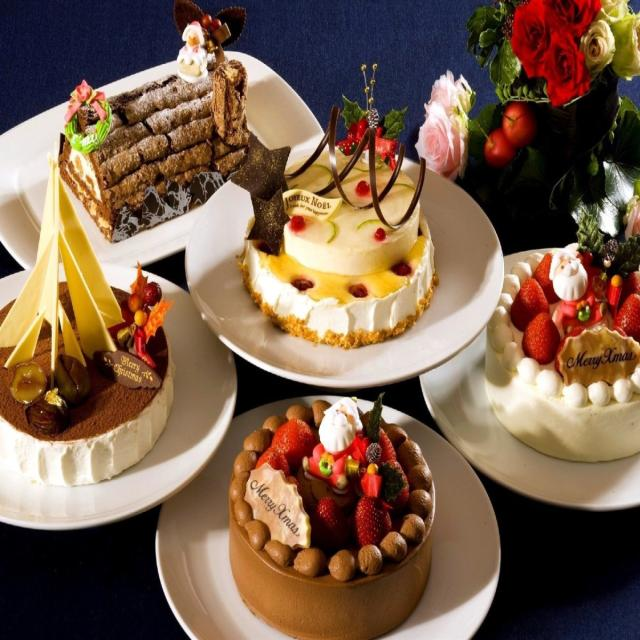Wet Waste: (197, 362, 490, 640), (7, 219, 197, 517), (264, 128, 487, 354), (52, 39, 253, 229)
